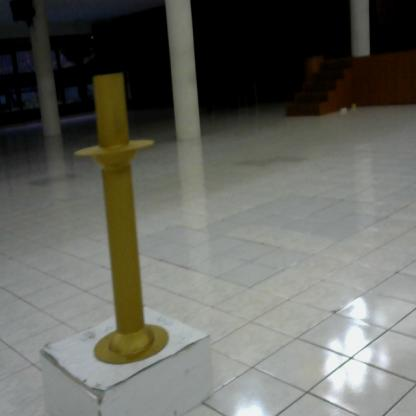pole: (71, 65, 176, 369)
